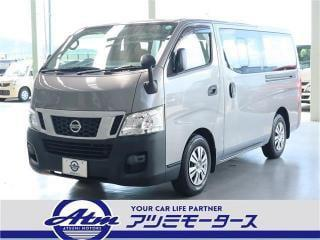Van: (27, 19, 302, 186)
